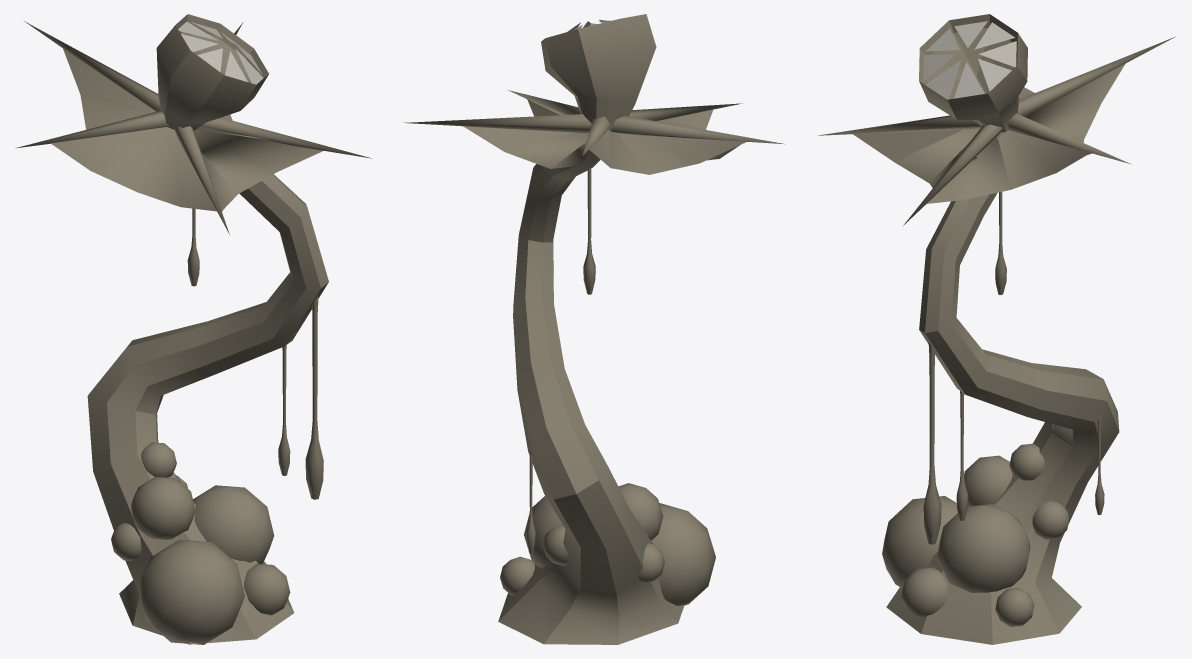
File: Spike_Concept.FBX
3 views of the same model, side by side, from view 1: azimuth 30°, elevation 25°; view 2: azimuth 150°, elevation 25°; view 3: azimuth 270°, elevation 25° (orthographic). The views are drawn at different scales.
Visible parts, largest first — view 1: GeoSphere001; view 2: GeoSphere001; view 3: GeoSphere001.
Part boxes in pixels (x1=…): GeoSphere001: x1=15, y1=14, x2=371, y2=644; GeoSphere001: x1=404, y1=14, x2=785, y2=644; GeoSphere001: x1=818, y1=14, x2=1175, y2=644.
Bounding box in the file's own units: 45.83 × 82.09 × 45.75.
